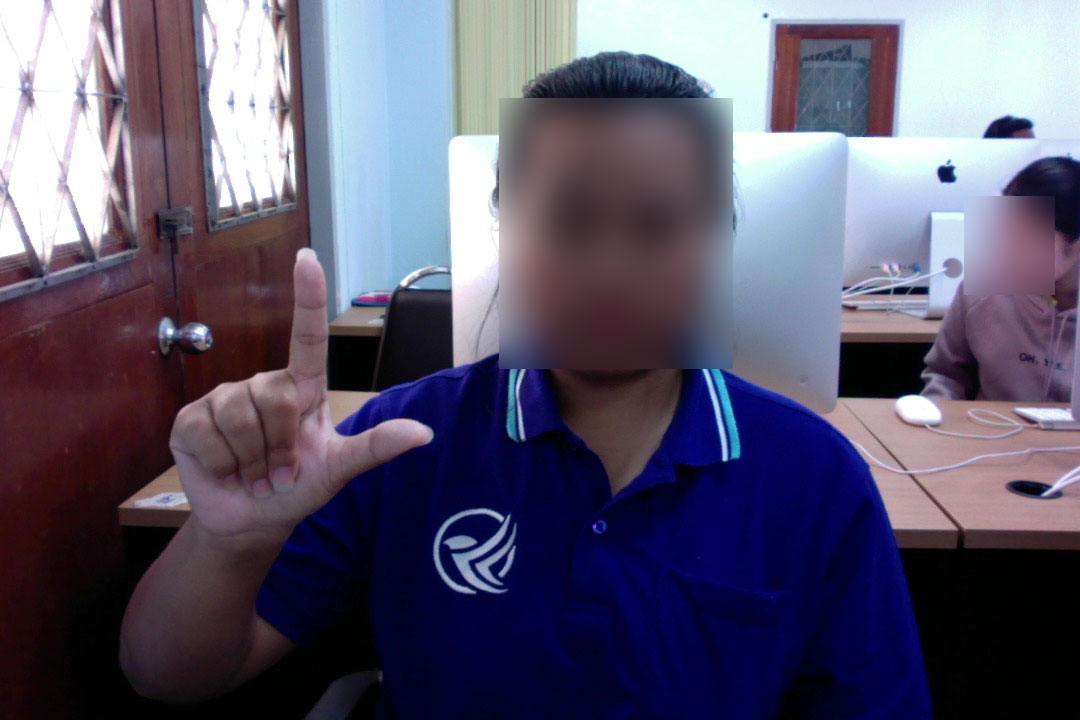lor: (152, 228, 439, 555)
